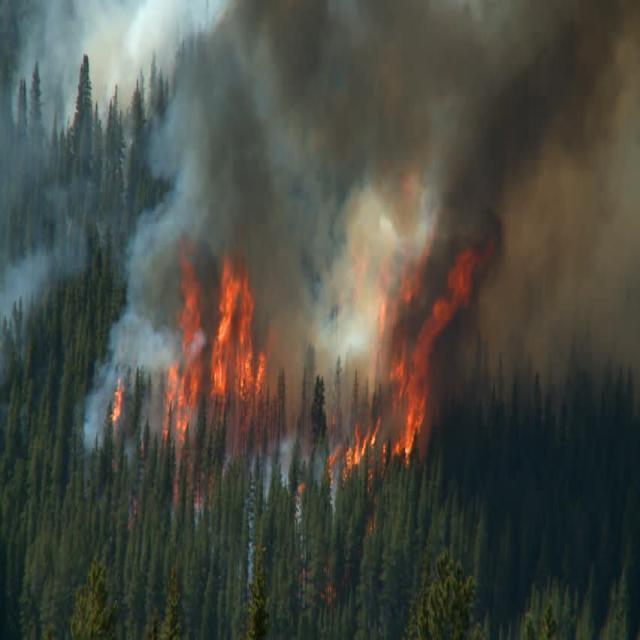Fire: (358, 267, 451, 426), (140, 270, 216, 387), (334, 408, 436, 485), (214, 259, 264, 399), (112, 375, 126, 447)
Smoke: (207, 0, 566, 210), (151, 100, 199, 219)
